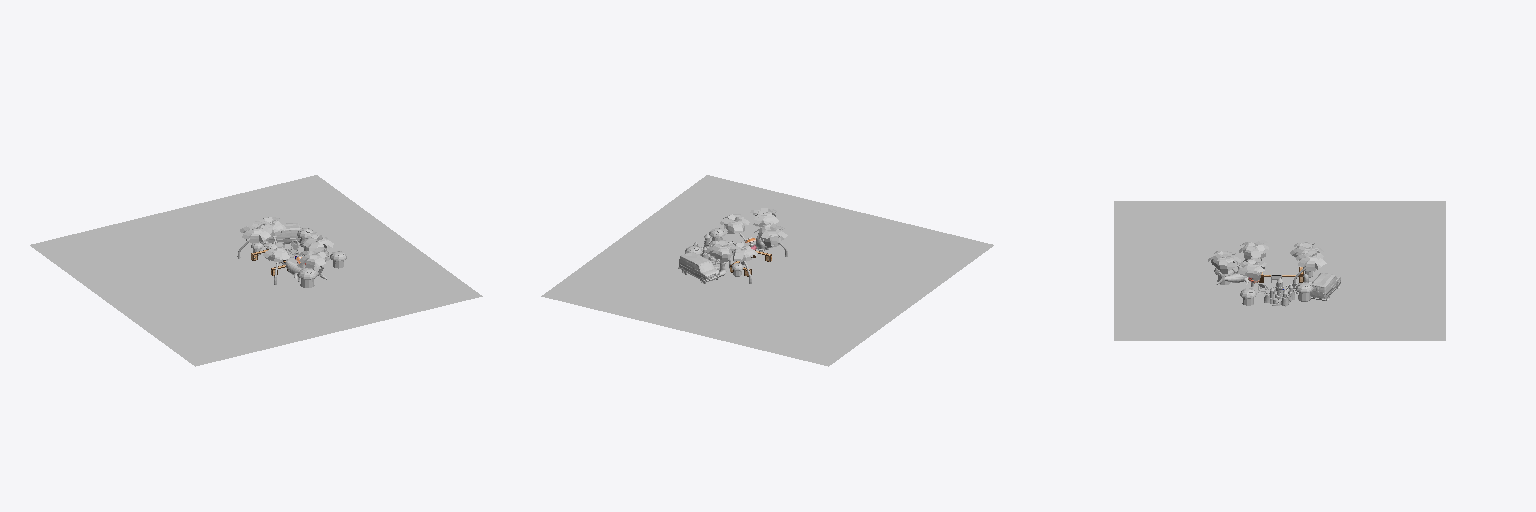
3 views of the same model, side by side, from view 1: azimuth 30°, elevation 25°; view 2: azimuth 150°, elevation 25°; view 3: azimuth 270°, elevation 25° (orthographic).
Parts seen in each view (by area): view 1: Plane; view 2: Plane, default001; view 3: Plane, default001.
Boxes of the visible parts, x1,y1,x2,y2 form: Plane: [30, 175, 482, 366]; Plane: [541, 175, 993, 366]; default001: [678, 252, 719, 283]; Plane: [1114, 201, 1445, 340]; default001: [1310, 273, 1340, 300].
Bounding box in the file's own units: 204 × 23.55 × 204.
29 materials, 4 textured.